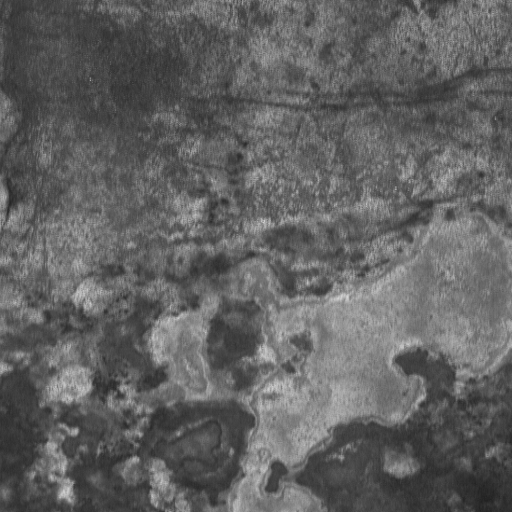aokeng: (149, 206, 511, 512), (144, 397, 258, 495)
